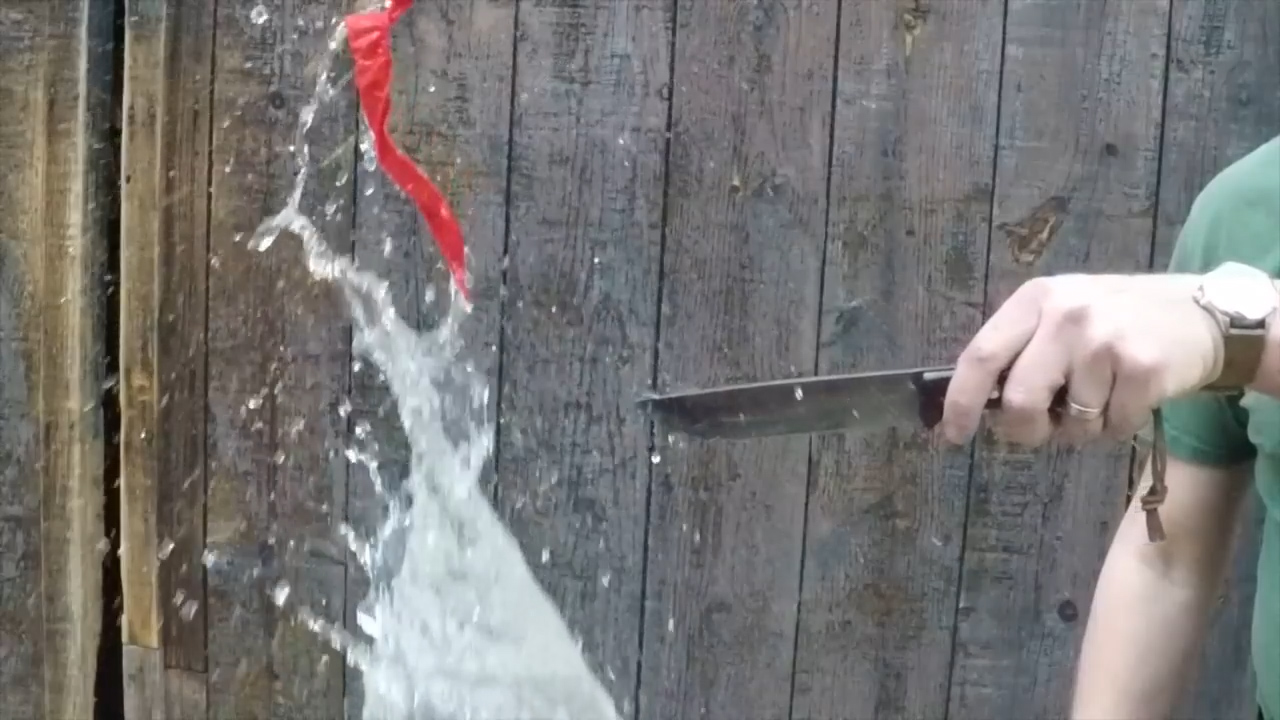knife: (612, 267, 1103, 456)
